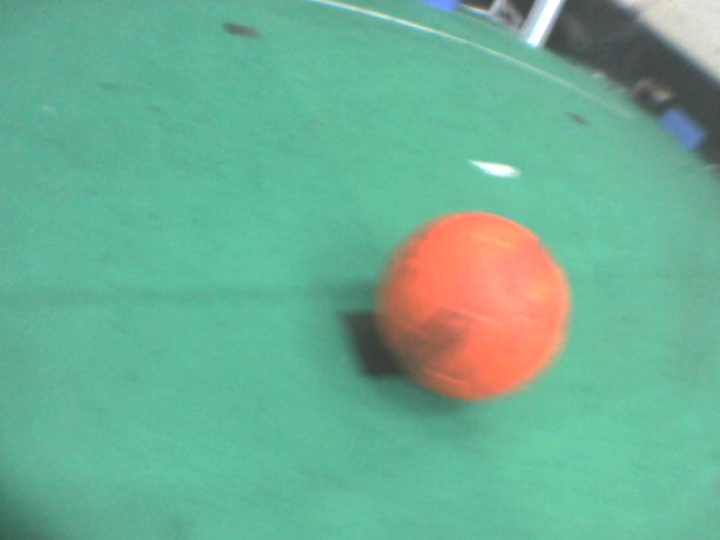bola: (374, 207, 580, 410)
